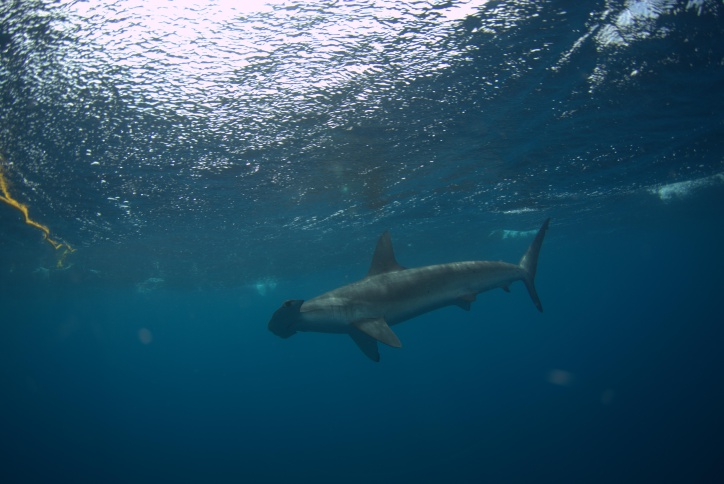Hammer: (234, 217, 552, 360)
